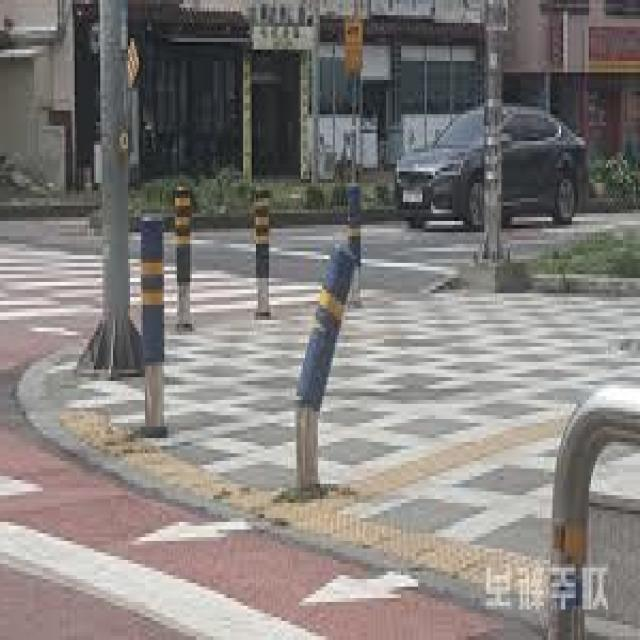bollard: (541, 372, 640, 640), (291, 233, 367, 497), (136, 201, 168, 445), (252, 171, 276, 323), (172, 174, 195, 331), (344, 178, 370, 302)
